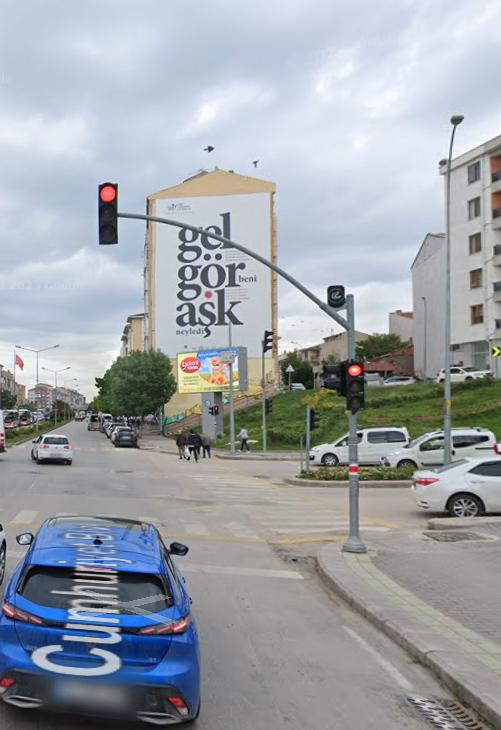redlight: (96, 183, 122, 247), (345, 360, 365, 413)
